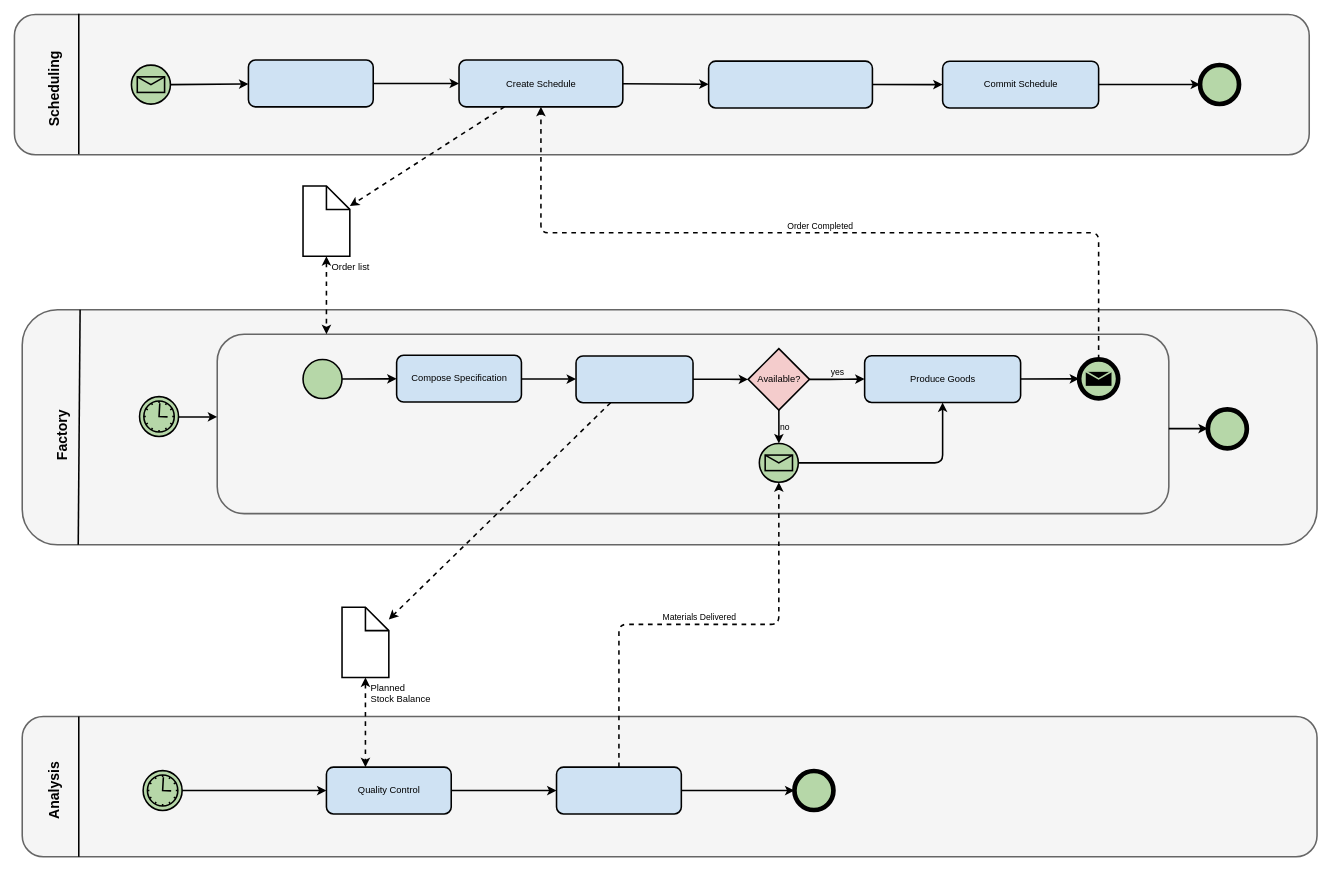
Some shapes in this 1331 by 872 pixel diagram are drawn without their labels. The centre of each missing label's shape, as x and y in pixels:
Check warehouse: the point at 634,379
Get Task: the point at 310,83
Issue Revision: the point at 618,790
Verify Schedule: the point at 790,84
